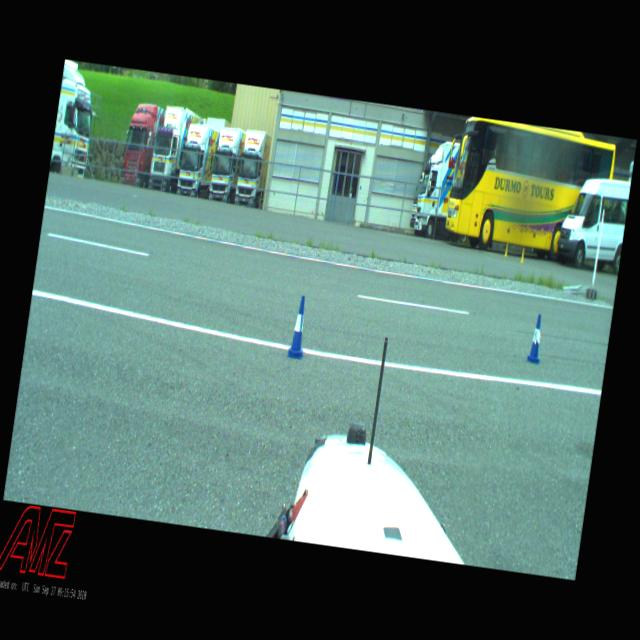blue_cone: (287, 294, 311, 360), (526, 313, 546, 364)
